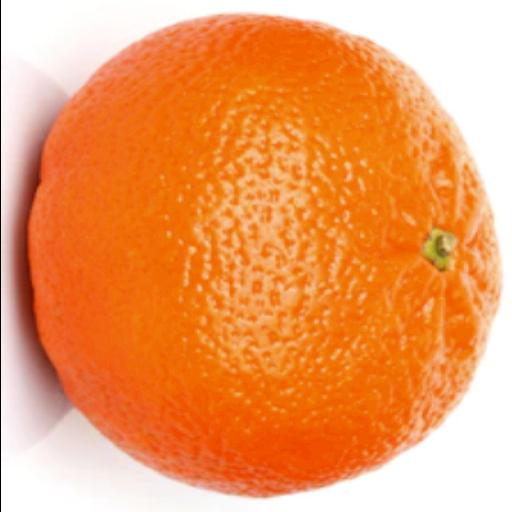orange: (28, 14, 499, 495)
